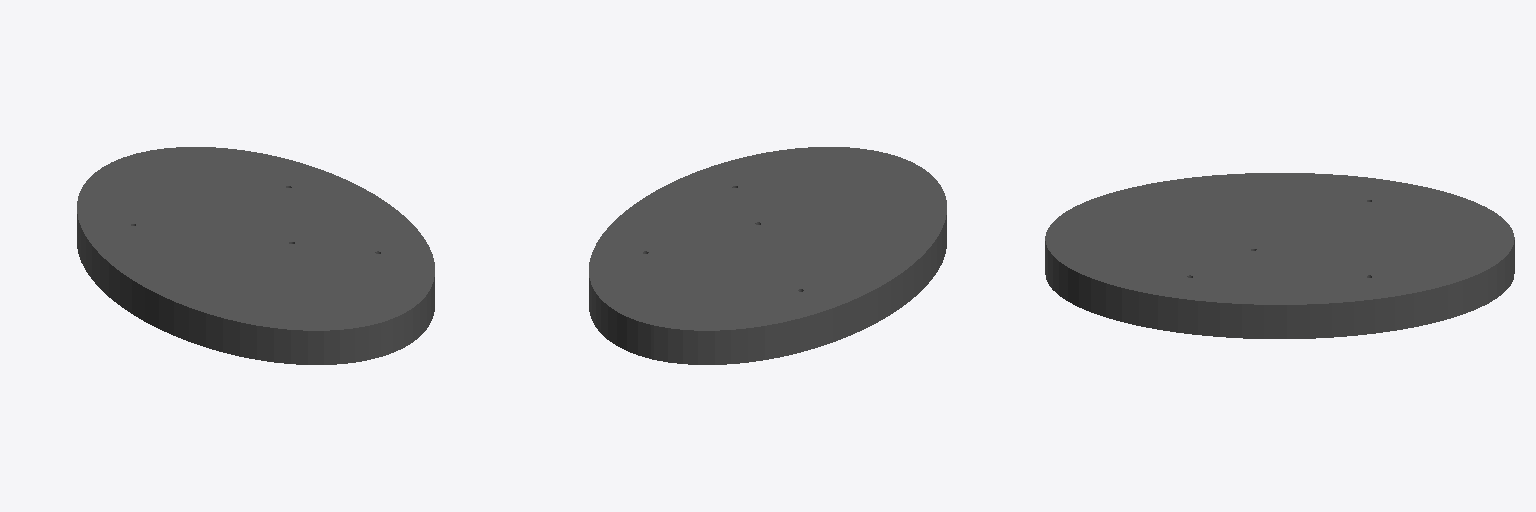
File: ellip3.obj
3 renders of one model, left to right at view 1: azimuth 30°, elevation 25°; view 2: azimuth 150°, elevation 25°; view 3: azimuth 270°, elevation 25°, orthographic.
Visible parts, largest first — view 1: StainlessSteel_ellip3; view 2: StainlessSteel_ellip3; view 3: StainlessSteel_ellip3.
Boxes of the visible parts, x1,y1,x2,y2 form: StainlessSteel_ellip3: [77, 147, 434, 364]; StainlessSteel_ellip3: [589, 147, 946, 364]; StainlessSteel_ellip3: [1045, 173, 1514, 338].
Bounding box in the file's own units: 0.1048 × 0.0127 × 0.1572.